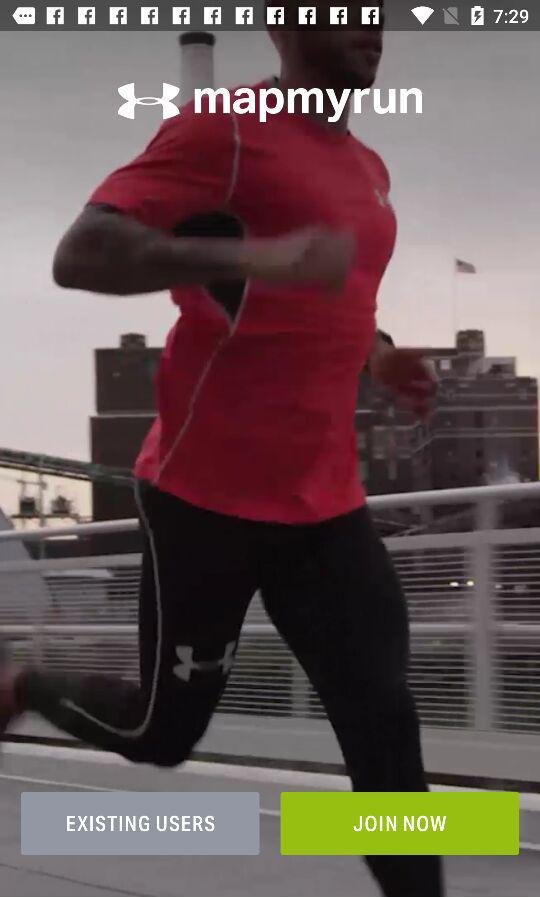BackgroundImage: (1, 32, 540, 897)
Image: (117, 83, 423, 123)
TextButton: (280, 791, 519, 856), (21, 792, 261, 856)
UpperTaskBar: (1, 1, 540, 32)
